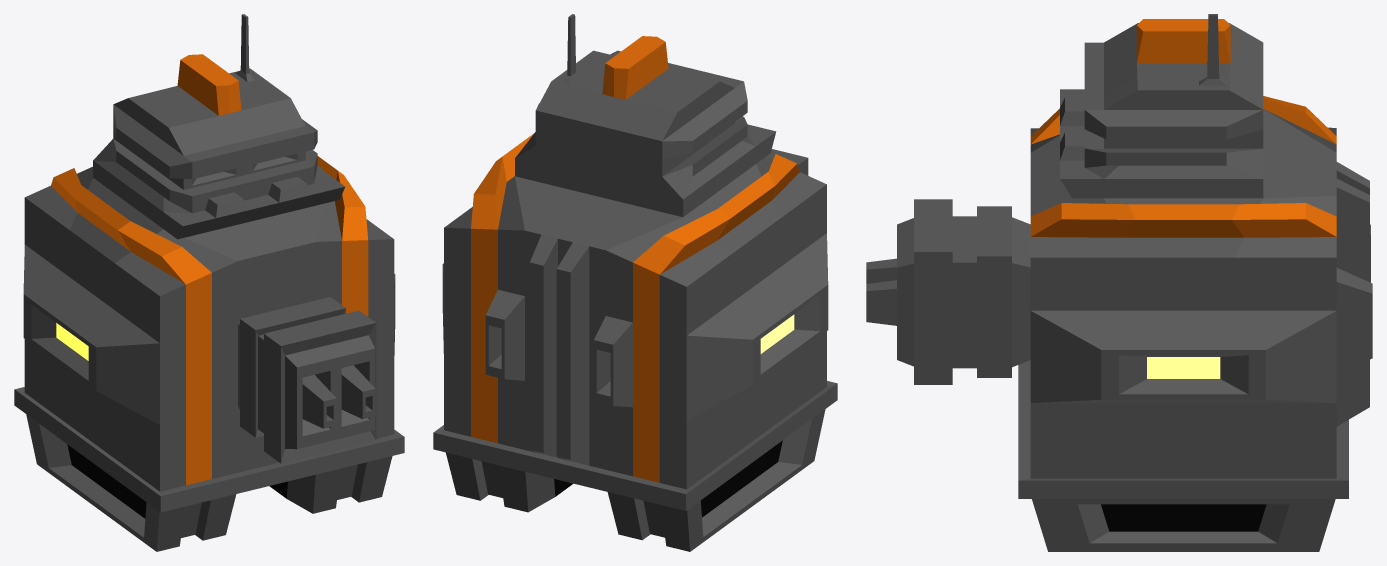
Rendered from TankRobot2.fbx.
The picture shows the model from 3 angles, left to right: view 1: azimuth 30°, elevation 25°; view 2: azimuth 150°, elevation 25°; view 3: azimuth 270°, elevation 25°; orthographic projection. The views are drawn at different scales.
Parts seen in each view (by area): view 1: Cube; view 2: Cube; view 3: Cube.
Boxes of the visible parts, left/top/right/bottom form: Cube: left=14, top=14, right=404, bottom=551; Cube: left=433, top=14, right=837, bottom=551; Cube: left=866, top=14, right=1372, bottom=551.
Size of the model in its own units: 255 by 331 by 362.
